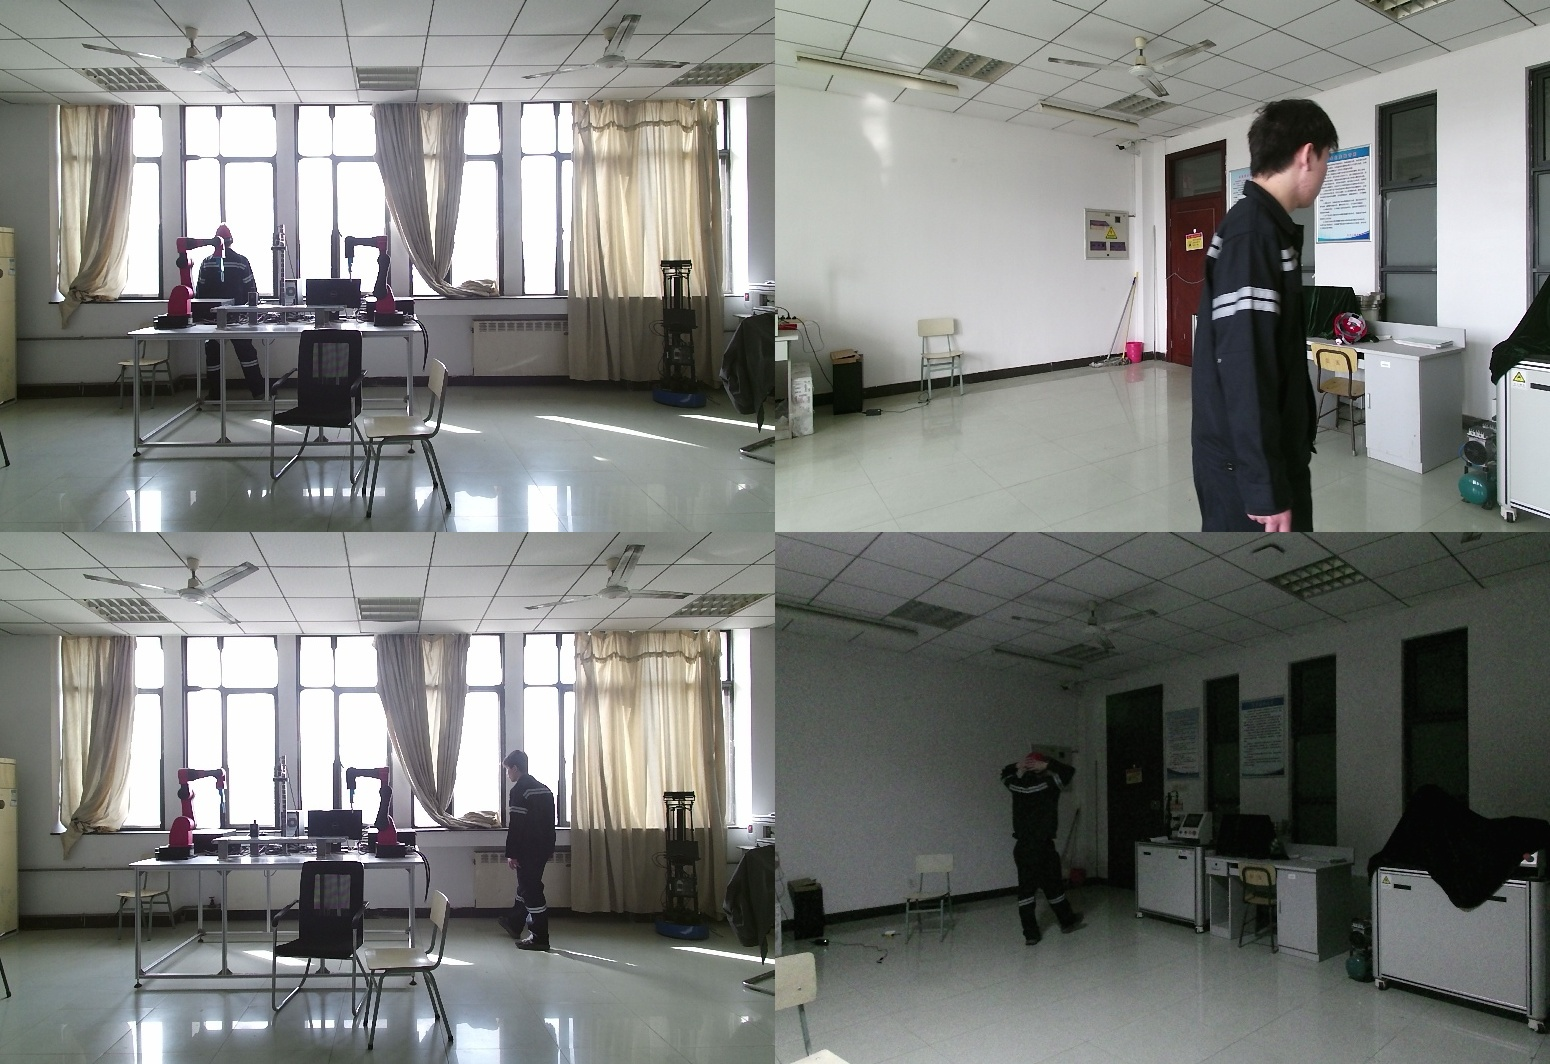person: (1187, 100, 1335, 532), (994, 751, 1078, 956), (196, 227, 270, 412), (497, 748, 563, 955)
